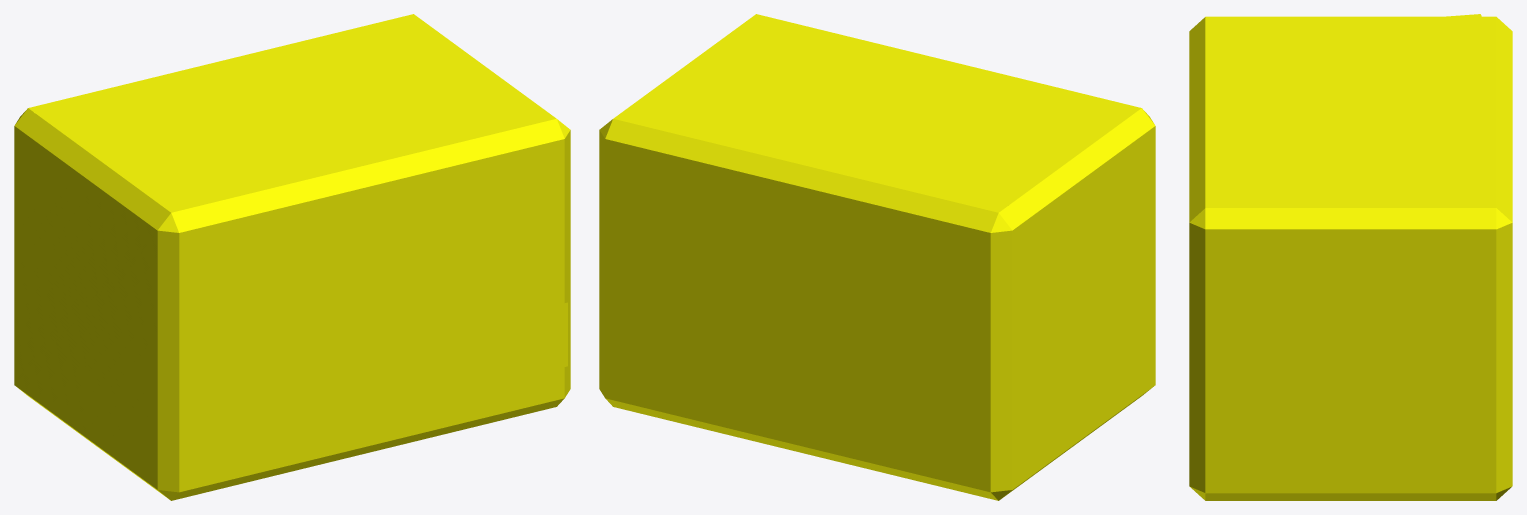
The model's file is kaykit-prototype-box-b.glb.
3 views of the same model, side by side, from view 1: azimuth 30°, elevation 25°; view 2: azimuth 150°, elevation 25°; view 3: azimuth 270°, elevation 25° (orthographic).
Parts seen in each view (by area): view 1: Box_B; view 2: Box_B; view 3: Box_B.
Boxes of the visible parts, bbox=[...] form: Box_B: bbox=[14, 14, 570, 500]; Box_B: bbox=[599, 14, 1155, 500]; Box_B: bbox=[1189, 14, 1512, 500].
Size of the model in its own units: 0.6 by 0.4022 by 0.4062.
